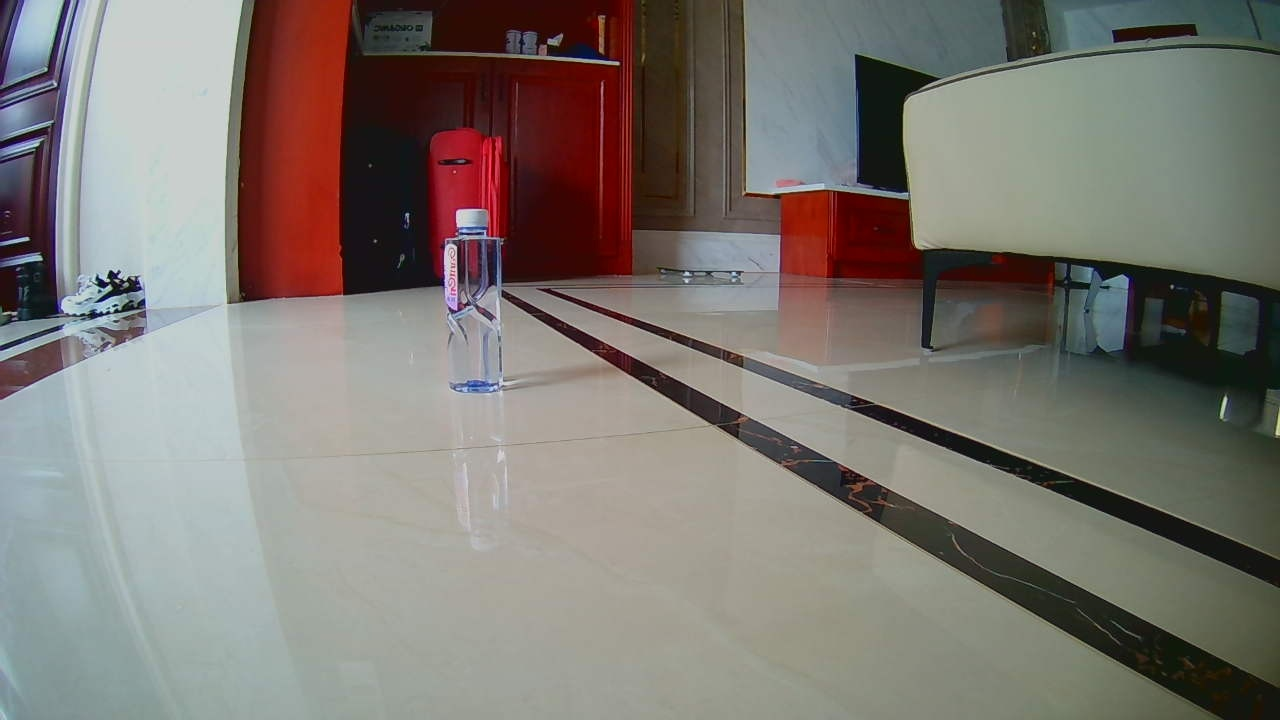water: (440, 207, 507, 394)
